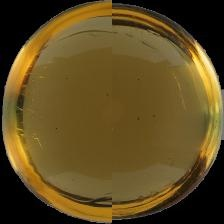24090-497: (0, 0, 224, 224)
